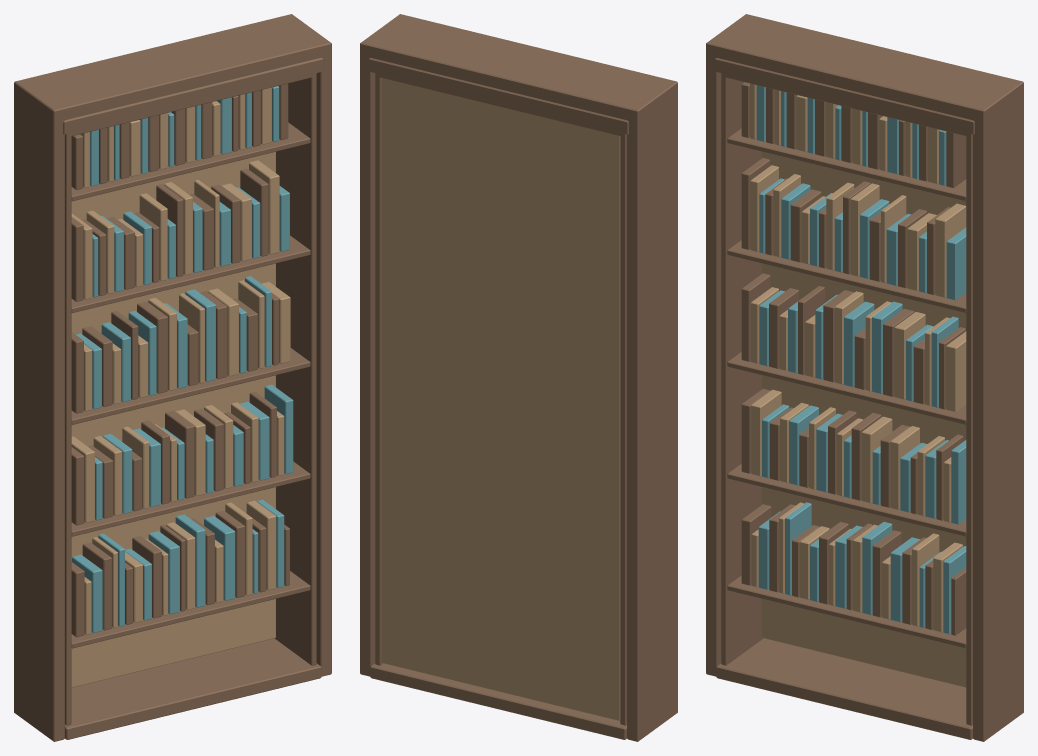
The model's file is escape-room-and-puzzle-venue-false-bookcase-door-431c9004__35776.glb.
The picture shows the model from 3 angles, left to right: view 1: azimuth 30°, elevation 25°; view 2: azimuth 150°, elevation 25°; view 3: azimuth 330°, elevation 25°; orthographic projection.
Parts seen in each view (by area): view 1: bookcase/walnut, false-bookcase-door, bookcase/timber, bookcase/fabric; view 2: bookcase/timber, false-bookcase-door, bookcase/walnut; view 3: bookcase/walnut, false-bookcase-door, bookcase/timber, bookcase/fabric.
Boxes of the visible parts, x1,y1,x2,y2 form: bookcase/walnut: (63,58,323,725); false-bookcase-door: (14,14,331,741); bookcase/timber: (71,87,290,687); bookcase/fabric: (72,86,293,632); bookcase/timber: (381,78,620,720); false-bookcase-door: (360,14,677,741); bookcase/walnut: (368,58,628,725); bookcase/walnut: (714,58,974,725); false-bookcase-door: (706,14,1023,741); bookcase/timber: (750,83,966,687); bookcase/fabric: (756,85,966,634).
Bounding box in the file's own units: 1.2 × 2.6 × 0.3199.
